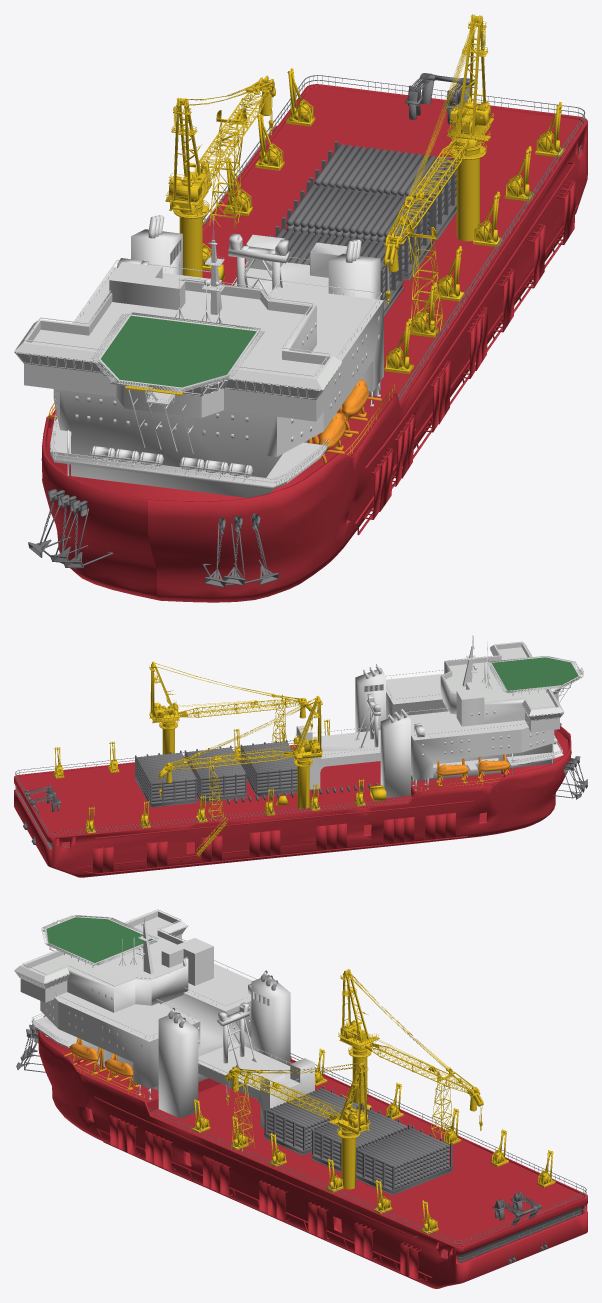
File: vessel.glb
The picture shows the model from 3 angles, top to bottom: view 1: azimuth 30°, elevation 25°; view 2: azimuth 150°, elevation 25°; view 3: azimuth 270°, elevation 25°; orthographic projection. The views are drawn at different scales.
Parts seen in each view (by area): view 1: vessel; view 2: vessel; view 3: vessel.
Part boxes in pixels (x1=…): vessel: x1=14, y1=14, x2=587, y2=602; vessel: x1=14, y1=635, x2=587, y2=877; vessel: x1=14, y1=909, x2=587, y2=1288.
Bounding box in the file's own units: 138 × 53.22 × 135.
